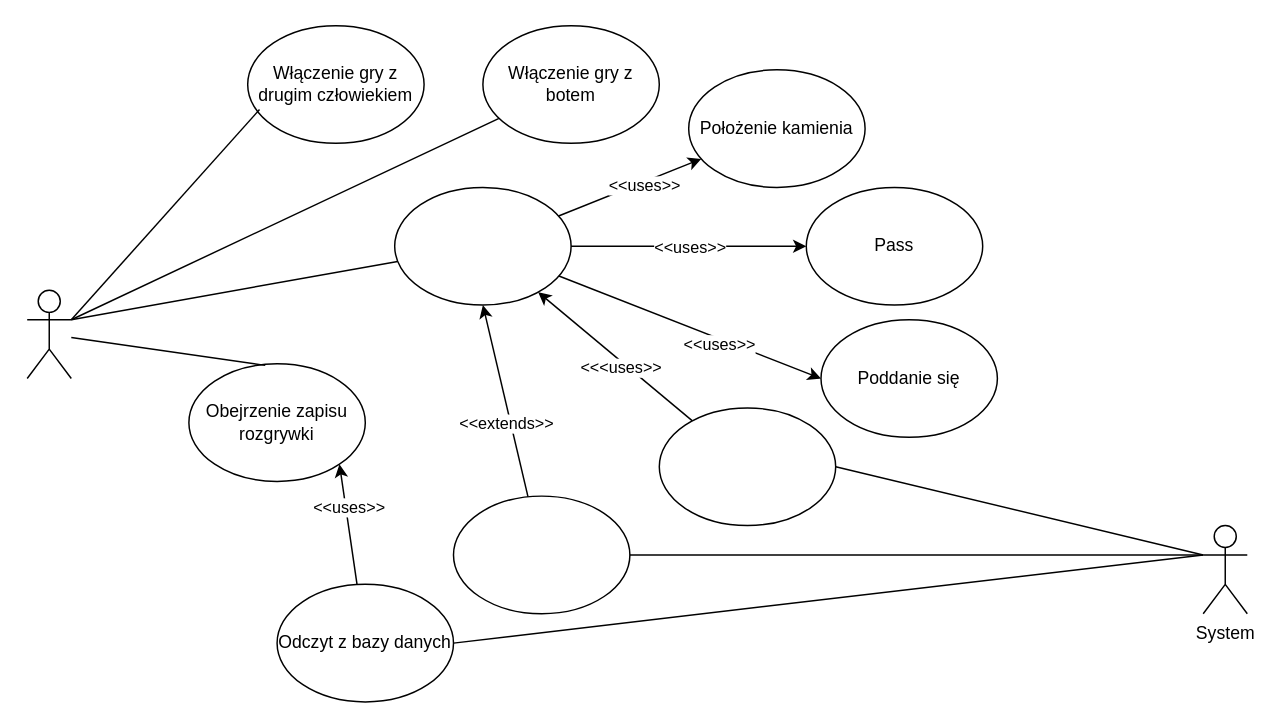
Some shapes in this 1280 by 728 pixel diagram are drawn without their labels. Each missing label, with the centre of its shape:
Gracz: pixel 48 334
Sprawdzenie poprawności ruchu: pixel 747 466
Wykonanie ruchu: pixel 482 245
Zapisanie ruchu do bazy: pixel 541 554
